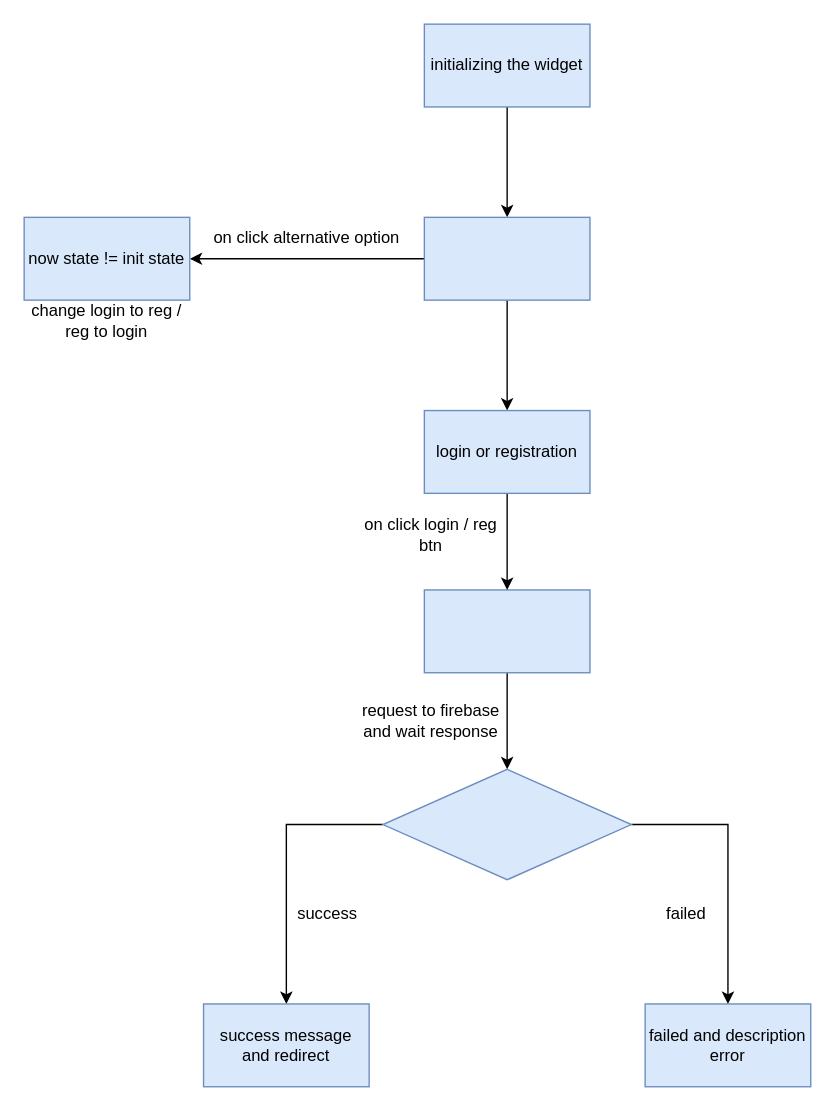
Some shapes in this 835 by 1111 pixel diagram are drawn without their labels. Here are the shapes that lost their labels. From the top down, the centre of each, then its label:
point 506,258: render login or registration form
point 506,631: loading spinner instead of login / reg form
point 506,824: get response
